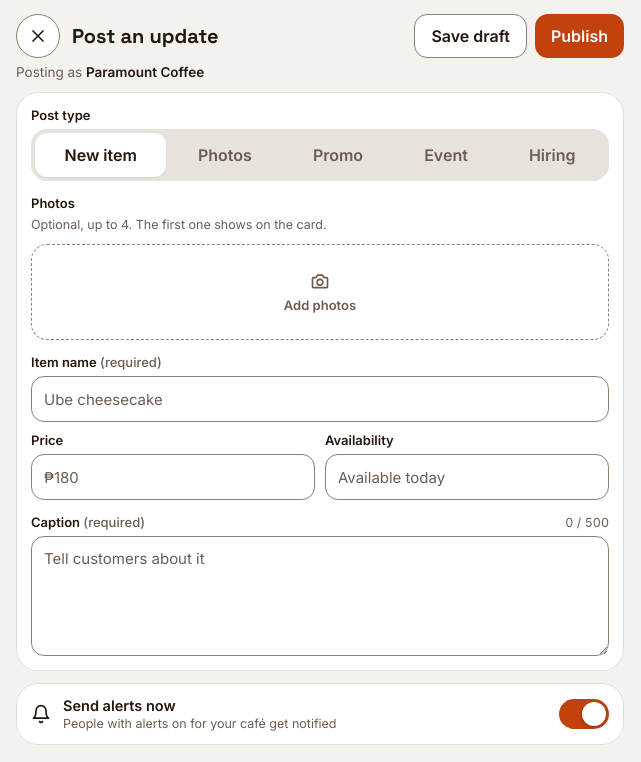
Scenario: composer page › keeps photos in upload order (first is Main), with Describe and Remove in the ... menu
The width and height of the screenshot is (641, 762).
Later steps or results of the test are not shown.
What coordinates should you click on to do the following:
click the button "Photos"
I would click on:
 (225, 155)
Its box is [168, 133, 281, 177].
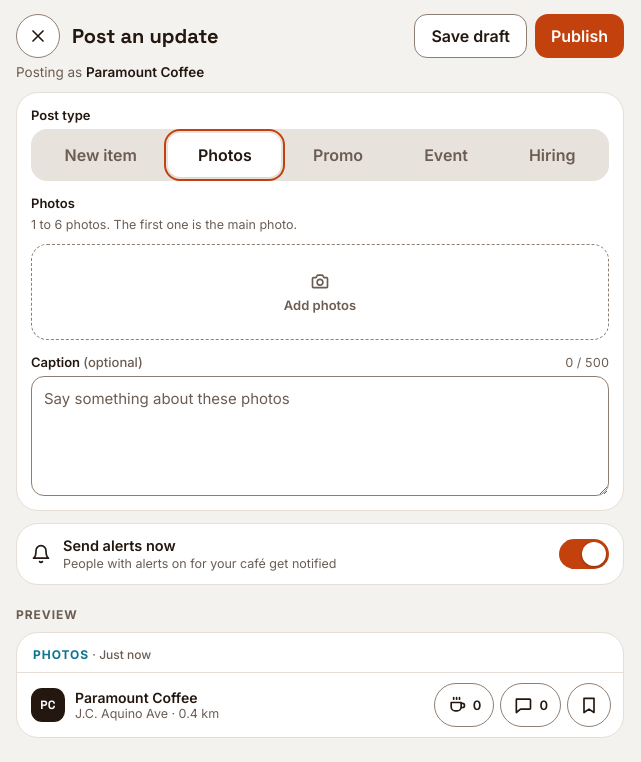
Now the text "1 to 6 photos. The first one is the main photo." is shown, box [31, 217, 297, 232]
Now the text "(optional)" is shown, box [83, 354, 143, 370]
